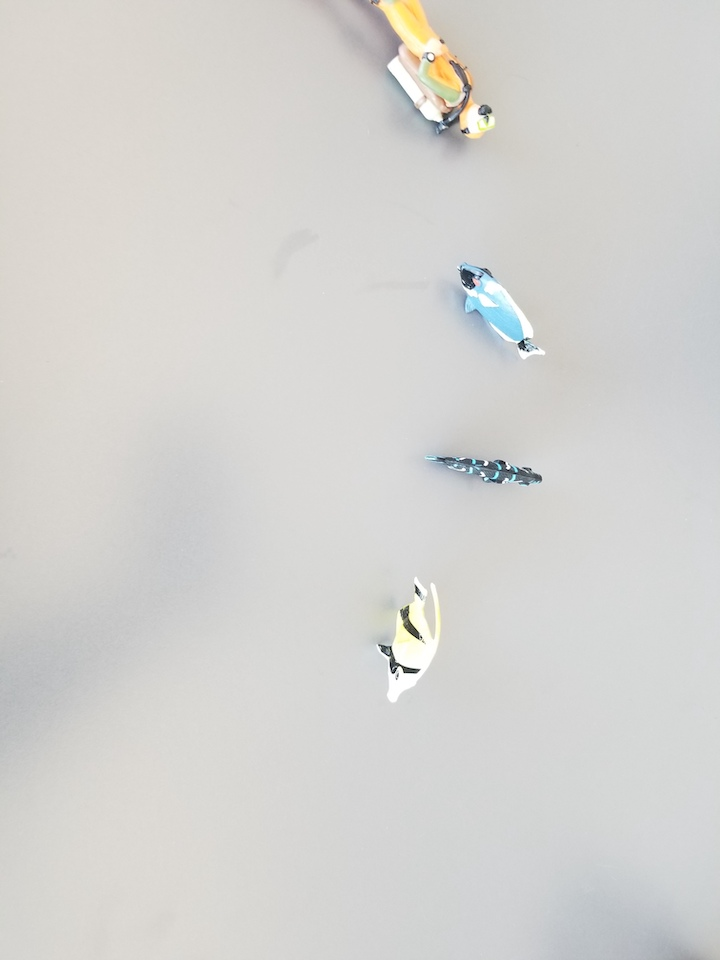danger: (365, 1, 498, 143), (379, 575, 442, 707)
fish: (456, 262, 549, 366), (425, 452, 549, 492)
